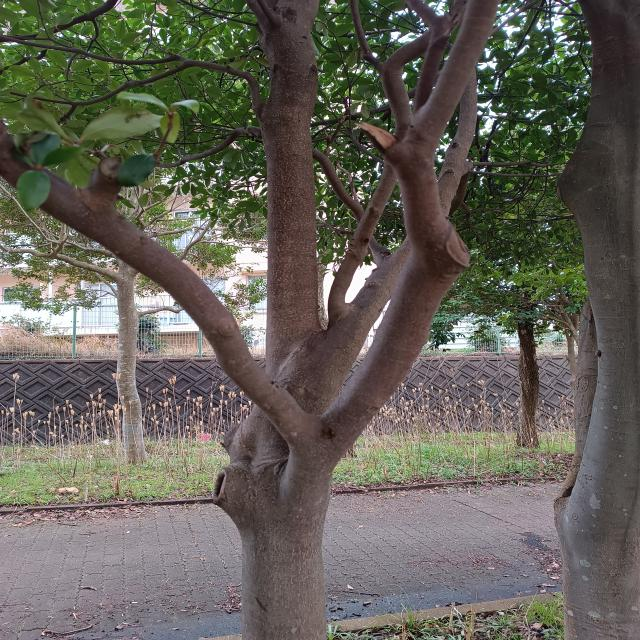Branch: (1, 118, 316, 442), (324, 125, 471, 468), (255, 0, 323, 371), (284, 241, 407, 414), (441, 71, 478, 217)
Twig: (417, 0, 503, 143), (327, 158, 396, 323), (378, 0, 465, 129), (1, 34, 188, 65), (183, 59, 261, 118), (71, 66, 184, 106), (312, 149, 364, 222), (11, 91, 70, 104), (58, 106, 78, 123)
